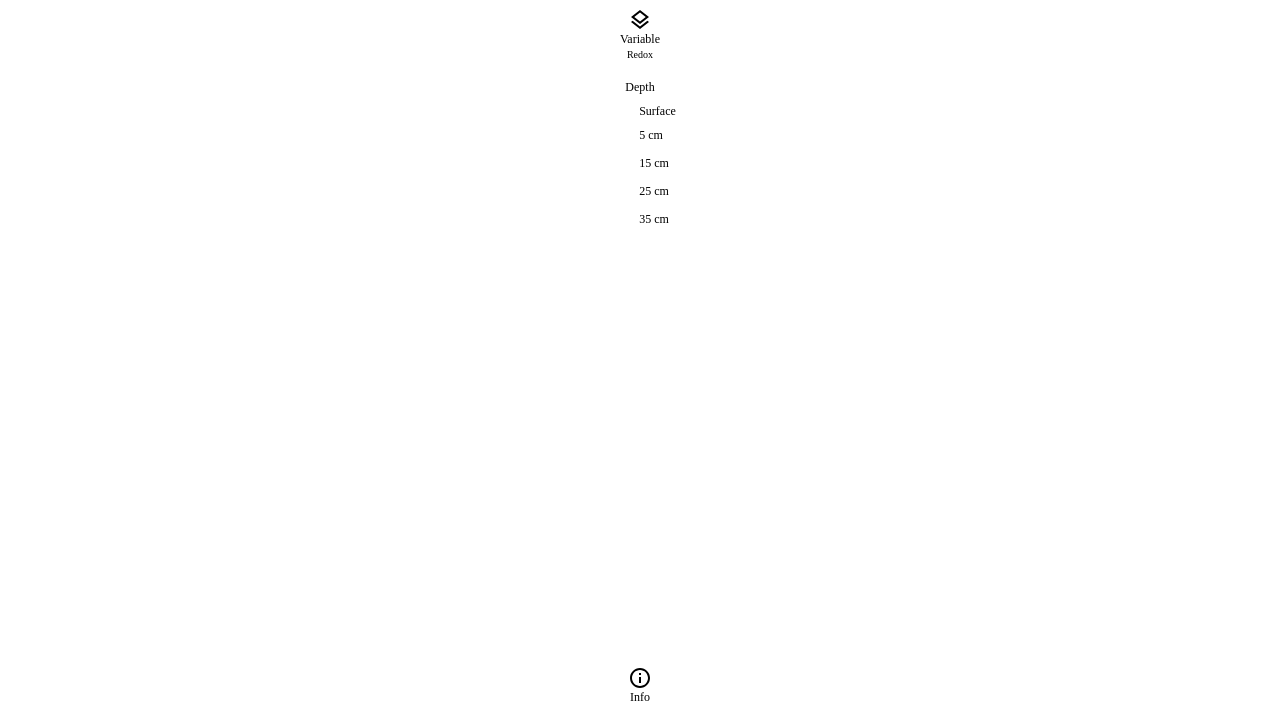
Scenario: SidePanel variable popup › selects a variable from the hovered popup and closes it
The image size is (1280, 720).
Hover over the button "Variable Redox".
mouse_move(640, 35)  # box top-left (0, 0), bottom-right (1279, 70)
Wait 120 ms
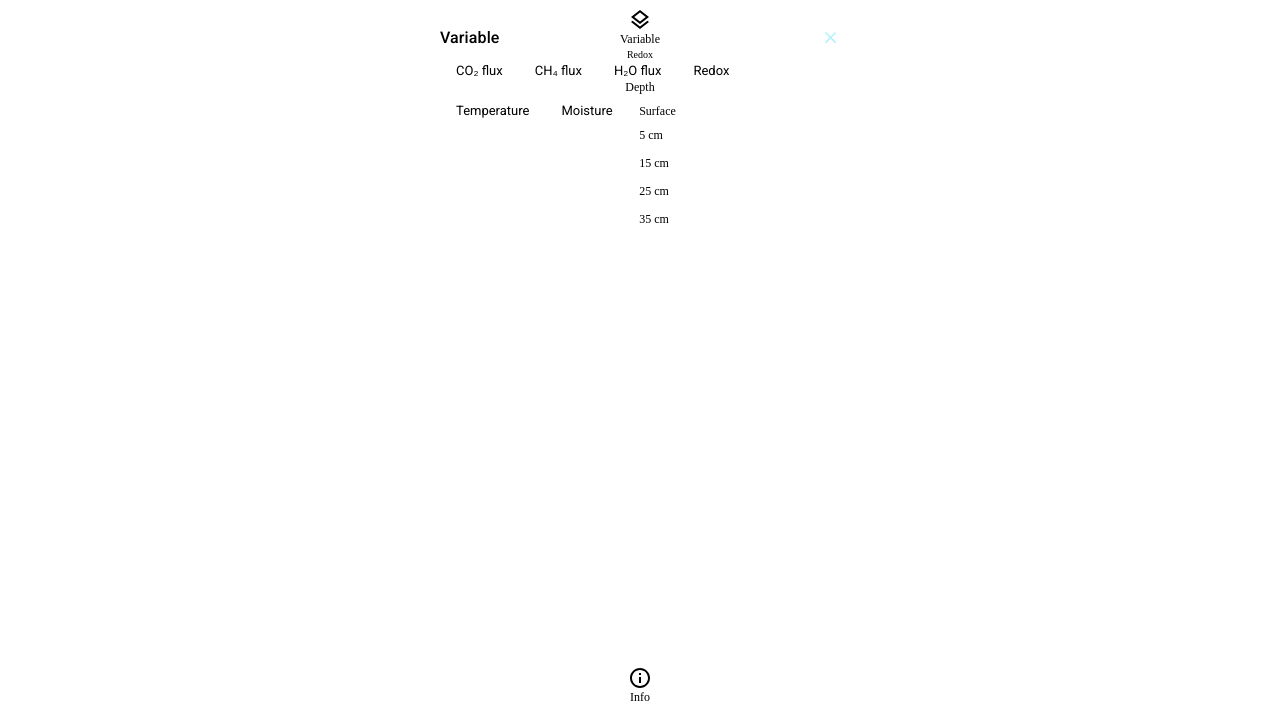
Click the button "CO₂ flux".
click(479, 70)  # box top-left (456, 63), bottom-right (503, 78)
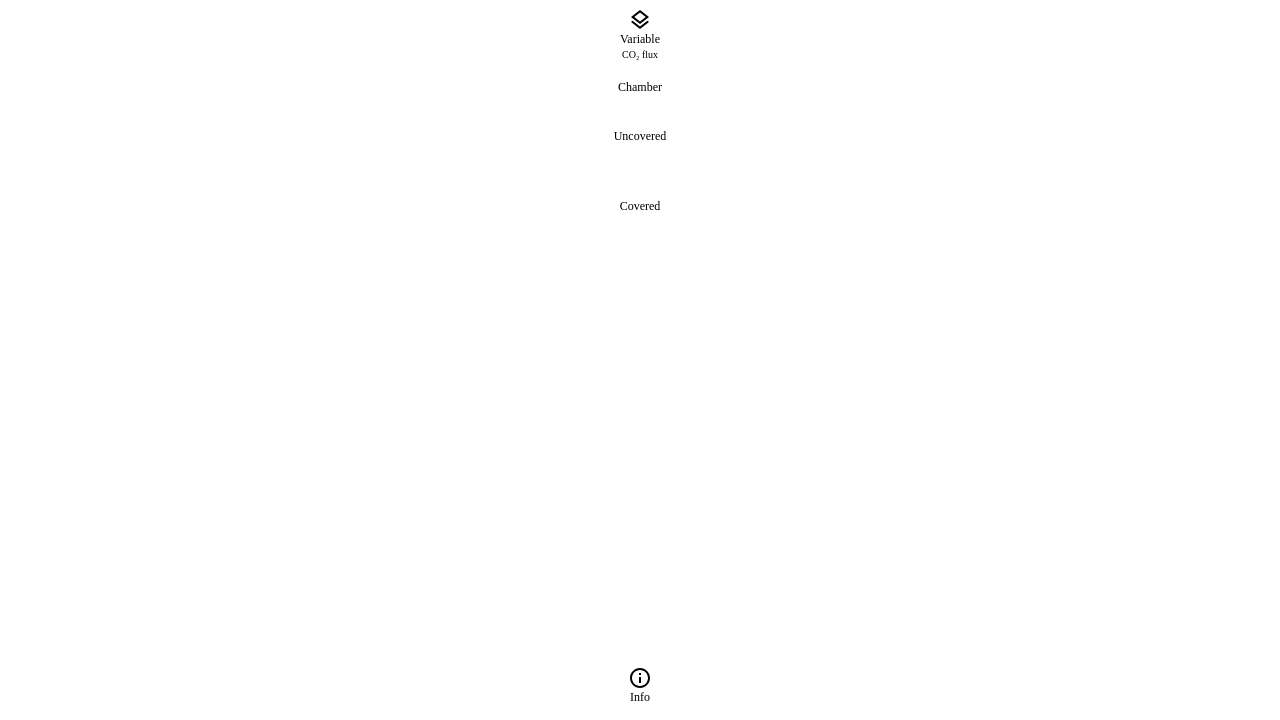
Result: the button with test id "variable" no longer shows "Redox"
